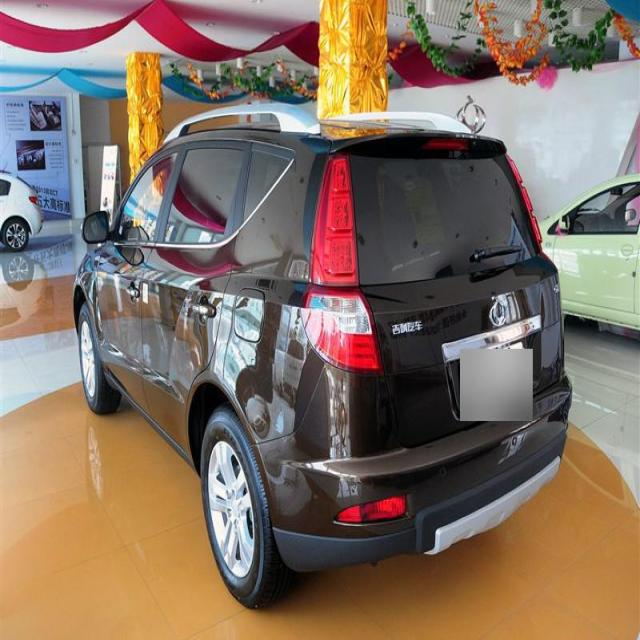back_glass: (350, 143, 540, 296)
back_left_side_light: (303, 148, 387, 378)
back_right_side_light: (506, 149, 546, 253)
door: (145, 147, 251, 420)
front_left_side_door: (94, 142, 183, 432)
front_left_side_mirror: (84, 209, 110, 248)
rear_bumper: (251, 361, 572, 572)
wheel: (202, 412, 272, 607), (79, 310, 112, 414)
